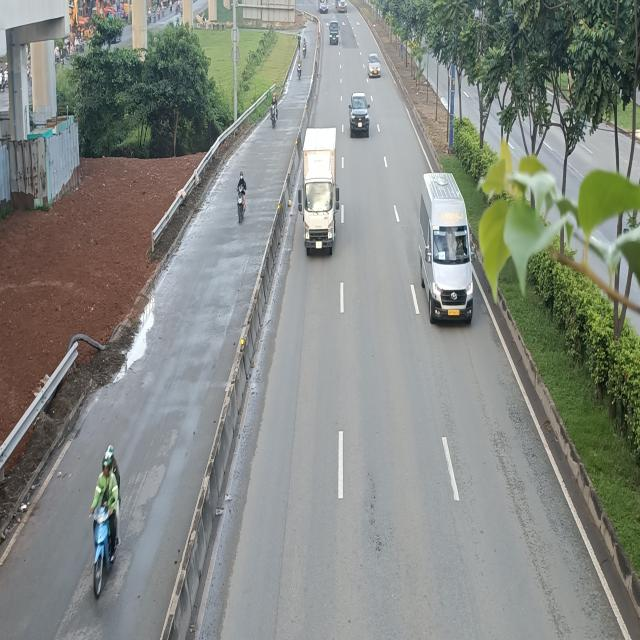car: (349, 92, 370, 137)
truck: (297, 128, 339, 259)
van: (418, 172, 475, 322)
